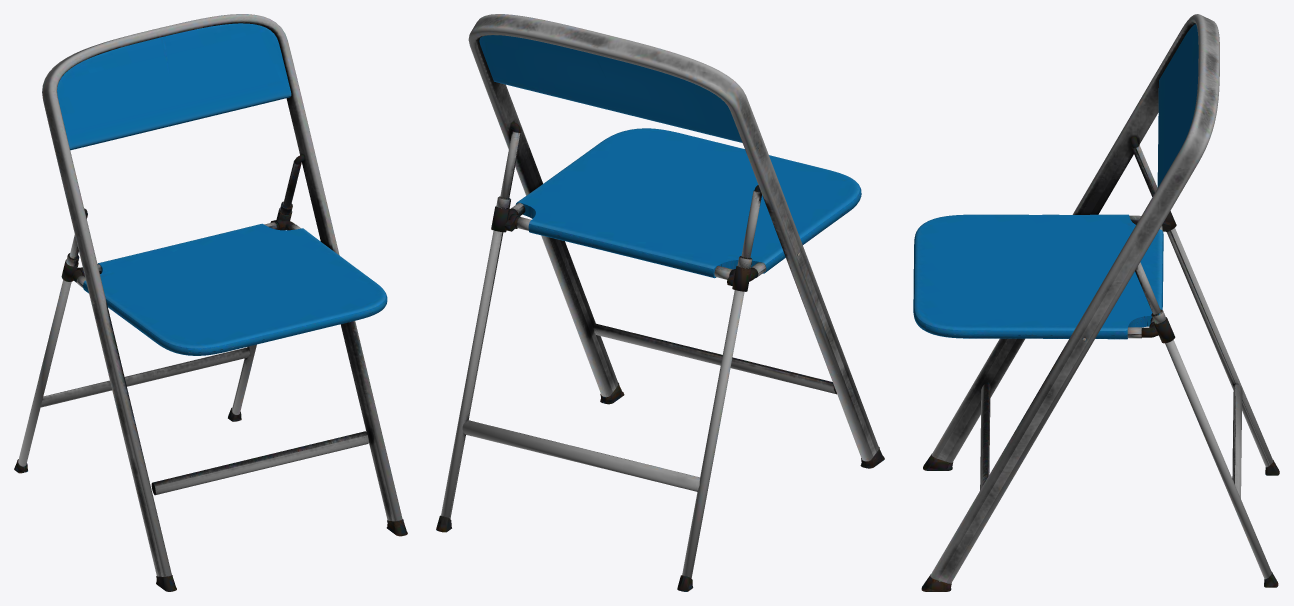
The model's file is chair0.dae.
The picture shows the model from 3 angles, left to right: view 1: azimuth 30°, elevation 25°; view 2: azimuth 150°, elevation 25°; view 3: azimuth 270°, elevation 25°; orthographic projection. The views are drawn at different scales.
Parts seen in each view (by area): view 1: chair1; view 2: chair1; view 3: chair1.
Part boxes in pixels (x1,y1,x2,y2): chair1: (14,14,407,591); chair1: (436,14,884,591); chair1: (913,14,1279,591).
Size of the model in its own units: 0.5105 by 0.6227 by 0.8884.
Materials: 1 (1 with a texture image).
